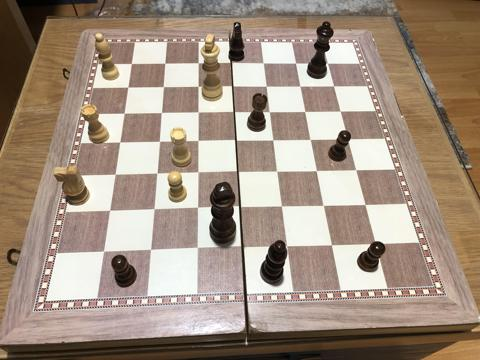xcorner: (159, 59, 172, 72), (192, 82, 205, 95), (228, 107, 241, 120), (323, 58, 335, 71), (295, 81, 307, 94), (157, 83, 170, 95), (300, 106, 312, 119), (264, 107, 277, 119), (155, 108, 168, 120), (343, 133, 355, 146), (305, 134, 318, 146), (230, 135, 242, 148), (114, 137, 126, 150), (191, 168, 204, 180), (150, 169, 163, 181), (360, 198, 372, 211), (318, 200, 331, 212), (276, 201, 289, 213), (147, 204, 160, 216), (281, 240, 294, 252), (190, 243, 203, 255), (97, 246, 109, 259), (291, 59, 303, 71), (258, 59, 270, 71), (226, 59, 238, 71), (193, 59, 205, 71), (126, 60, 138, 72), (329, 81, 341, 93), (261, 82, 273, 94), (227, 82, 239, 94), (122, 83, 134, 95), (335, 106, 347, 118), (192, 108, 204, 120), (118, 109, 130, 121), (268, 135, 280, 147), (192, 136, 204, 148), (153, 137, 165, 149), (351, 164, 363, 176), (312, 165, 324, 177), (272, 166, 284, 178), (232, 167, 244, 179), (109, 170, 121, 182), (234, 202, 246, 214), (191, 203, 203, 215), (103, 206, 115, 218), (370, 237, 382, 249), (326, 239, 338, 251), (236, 242, 248, 254), (144, 245, 156, 257)
